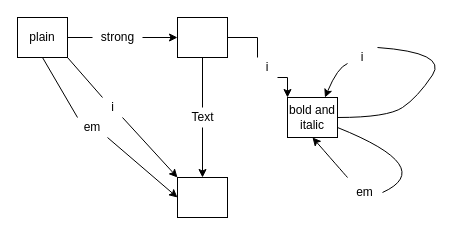
This 453x235 diagram has some shape labels left out. Each missing label, with the box of its shape:
bold: (176, 16, 228, 58)
italic: (176, 176, 228, 218)
